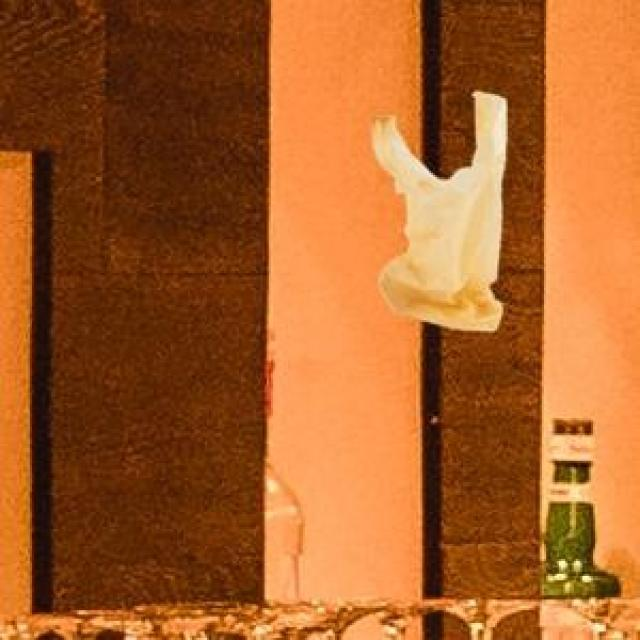waste: (374, 93, 506, 331)
